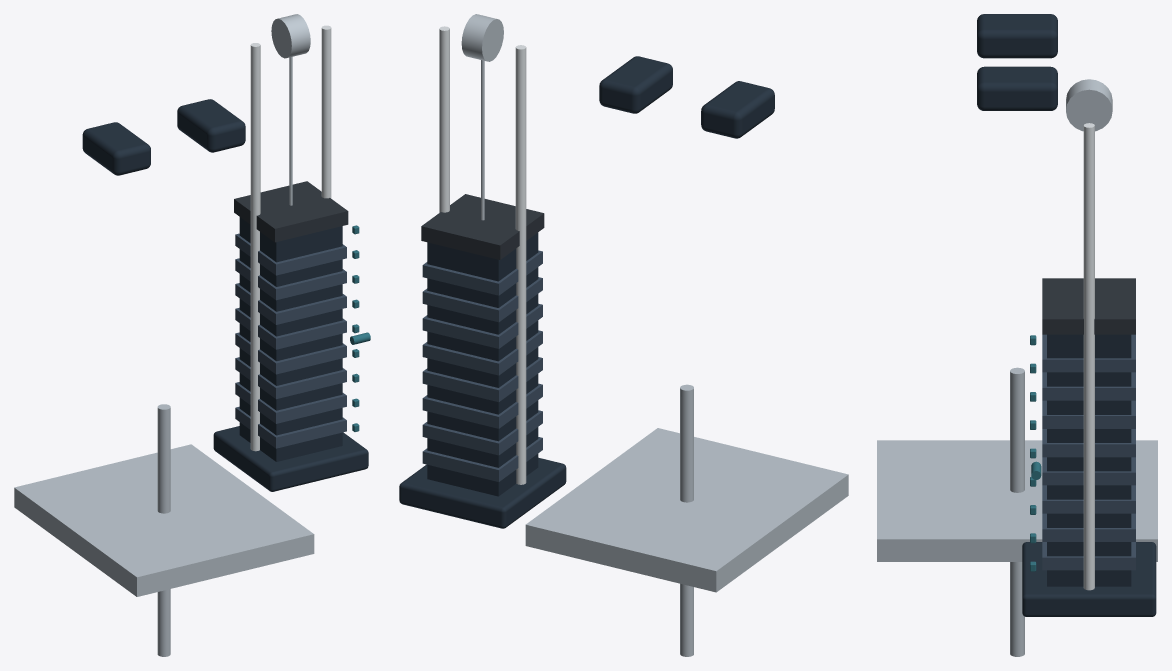
The model's file is calf_machine.glb.
The picture shows the model from 3 angles, left to right: view 1: azimuth 30°, elevation 25°; view 2: azimuth 150°, elevation 25°; view 3: azimuth 270°, elevation 25°; orthographic projection. The views are drawn at different scales.
Parts seen in each view (by area): view 1: base, weightPlate (×8), stack, guide (×2), stackBase, stackLift, RshoulderPad, LshoulderPad, LlegLink, loadPulley, loadCable; view 2: base, weightPlate (×8), stack, guide (×2), stackBase, stackLift, LshoulderPad, RshoulderPad, LlegLink, loadPulley, loadCable; view 3: base, weightPlate (×8), stack, stackBase, guide, stackLift, LshoulderPad, RshoulderPad, LlegLink, loadPulley.
Part boxes in pixels (box(x1,y1,x2,y2)): base: box(14, 444, 314, 596); weightPlate (×8): box(235, 233, 346, 448); stack: box(239, 217, 342, 461); guide (×2): box(250, 25, 331, 451); stackBase: box(213, 426, 368, 491); stackLift: box(234, 181, 348, 242); RshoulderPad: box(177, 99, 245, 152); LshoulderPad: box(82, 122, 150, 175); LlegLink: box(157, 404, 170, 656); loadPulley: box(271, 14, 310, 58); loadCable: box(289, 57, 292, 205); base: box(525, 428, 848, 592); weightPlate (×8): box(422, 250, 542, 481); stack: box(427, 232, 538, 496); guide (×2): box(439, 26, 526, 484); stackBase: box(399, 457, 566, 528); stackLift: box(421, 194, 544, 259); LshoulderPad: box(701, 81, 774, 138); RshoulderPad: box(599, 56, 672, 113); LlegLink: box(680, 384, 693, 656); loadPulley: box(461, 14, 503, 61); loadCable: box(481, 60, 484, 220); base: box(877, 440, 1157, 561); weightPlate (×8): box(1042, 334, 1135, 570); stack: box(1047, 334, 1131, 586); stackBase: box(1022, 542, 1156, 616); guide: box(1083, 123, 1094, 590); stackLift: box(1042, 278, 1135, 334); LshoulderPad: box(977, 14, 1057, 58); RshoulderPad: box(977, 66, 1057, 110); LlegLink: box(1010, 367, 1024, 656); loadPulley: box(1066, 79, 1112, 131).
Bounding box in the file's own units: 1.28 × 2.33 × 0.9.
